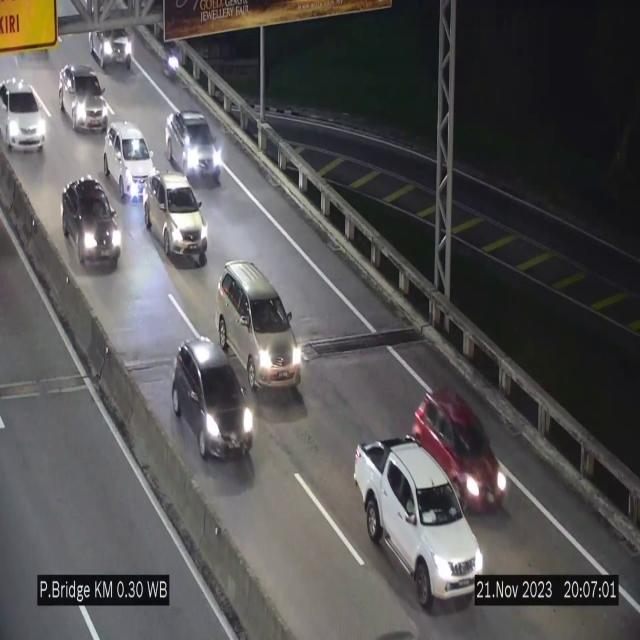Car: (355, 438, 483, 611), (418, 377, 507, 517), (217, 261, 303, 397), (172, 335, 252, 460), (61, 174, 126, 276), (144, 173, 208, 263), (104, 121, 158, 202), (166, 110, 222, 183), (0, 74, 46, 161), (86, 0, 134, 72), (59, 64, 108, 132)
Motorcycle: (160, 35, 182, 88)
